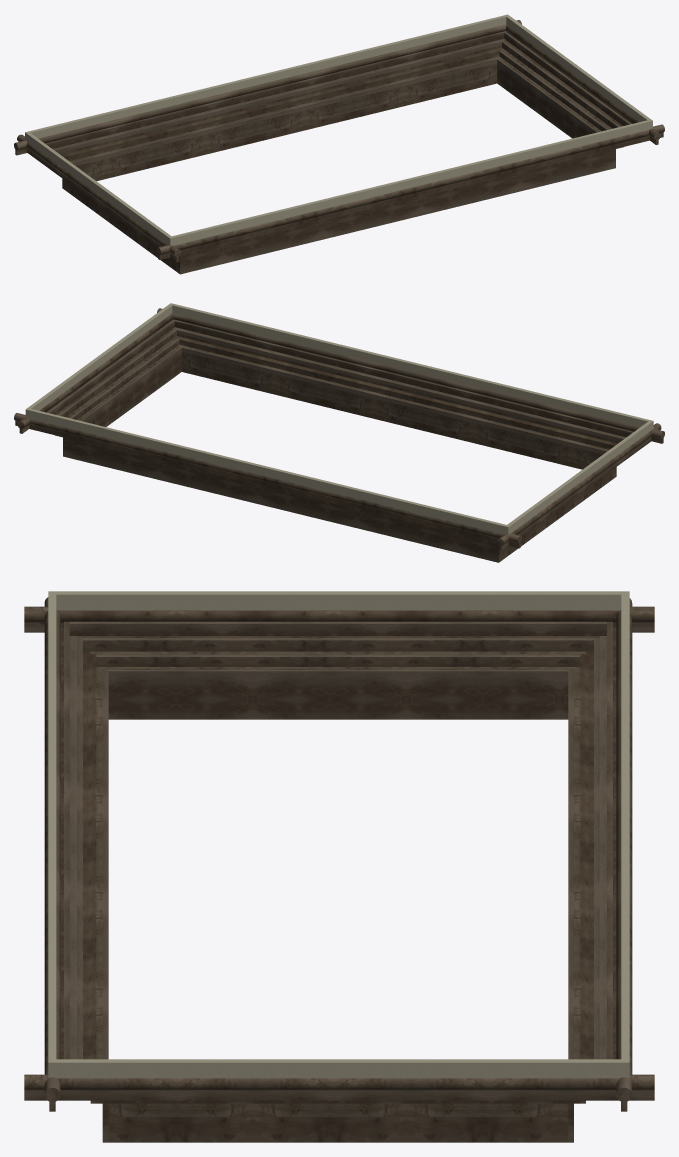
File: SM_Ssang_Dae_Jang.fbx
3 renders of one model, top to bottom at view 1: azimuth 30°, elevation 25°; view 2: azimuth 150°, elevation 25°; view 3: azimuth 270°, elevation 25°, orthographic. The views are drawn at different scales.
Parts seen in each view (by area): view 1: SM_Ssang_Dae_Jang; view 2: SM_Ssang_Dae_Jang; view 3: SM_Ssang_Dae_Jang.
Part boxes in pixels (x1,y1,x2,y2): SM_Ssang_Dae_Jang: (14, 14, 664, 274); SM_Ssang_Dae_Jang: (14, 303, 664, 562); SM_Ssang_Dae_Jang: (24, 591, 654, 1142).
Size of the model in its own units: 2116 by 206 by 1146.
